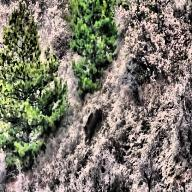boar: (82, 105, 112, 143)
